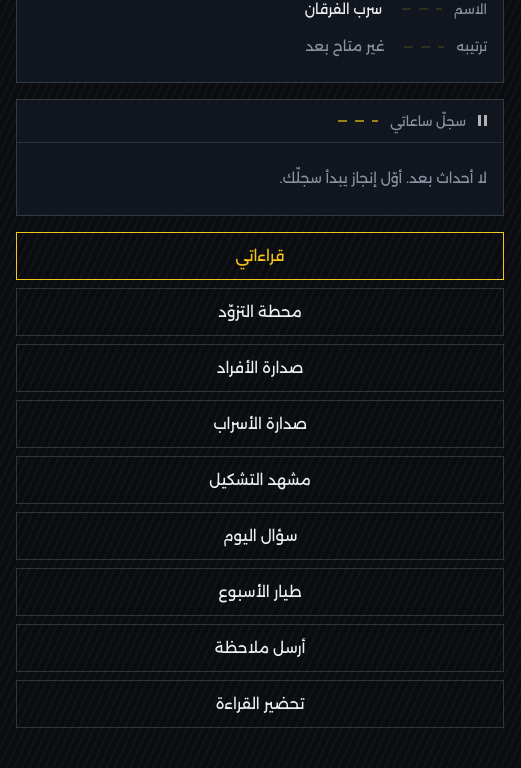
تحضير القراءة — و-١١ › الطالب: التقرير الأسبوعي يُعرض كما وصل من الخادم — لا حساب هنا
The image size is (521, 768).
(page scrolled)
Click the button "تحضير القراءة" at (260, 704), box [16, 680, 504, 728]
(page scrolled)
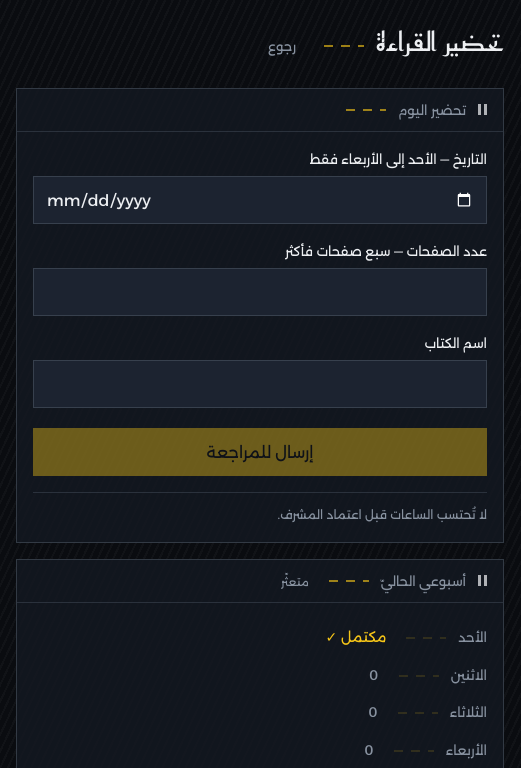
Result: the text "متعثّر" is shown at [281, 573, 309, 592]
Result: the text "مكتمل ✓" is shown at [326, 626, 386, 650]
